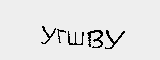В: (86, 28, 105, 51)
Г: (55, 25, 66, 45)
У: (103, 28, 128, 51), (39, 22, 56, 49)
Ш: (66, 29, 86, 48)
